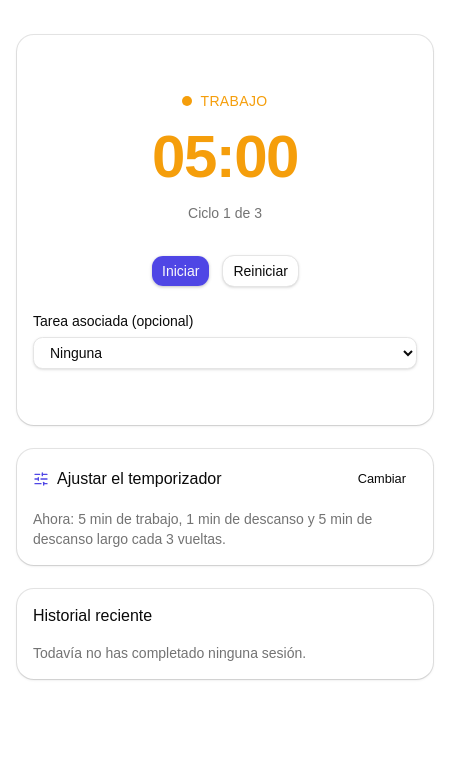
Test: PaginaPomodoro › se ajusta eligiendo una opción por edad y se guarda en la cuenta
The image size is (451, 763).
Click the button "Cambiar".
click(382, 479)  # box [347,465,417,493]
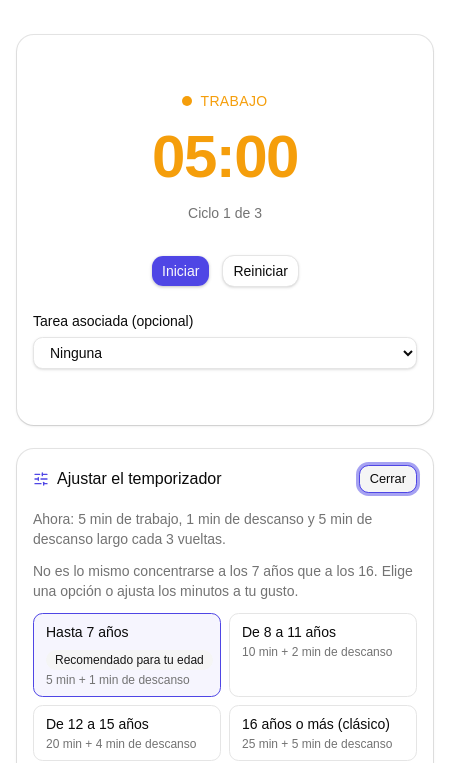
Expected: the button that starts with "Hasta 7 años" is shown, [33,613,221,697]
Click the button "De 8 a 11 años 10 min + 2 min de descanso".
click(323, 655)  # box [229,613,417,697]
(page scrolled)
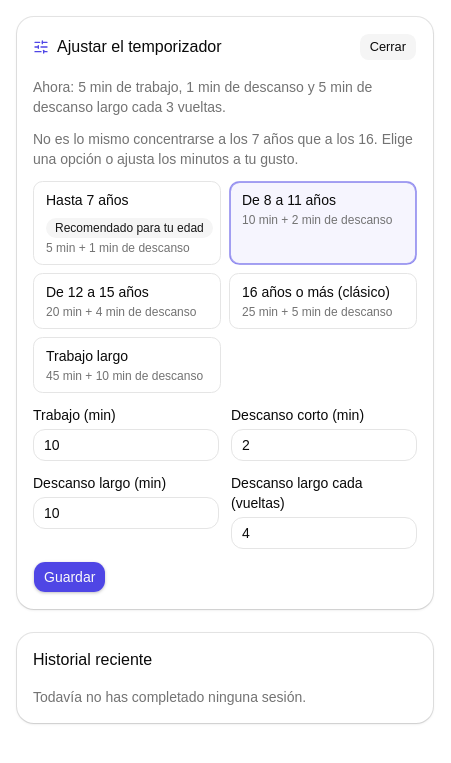
Click the button "Guardar".
click(70, 577)  # box [33,561,106,593]
(page scrolled)
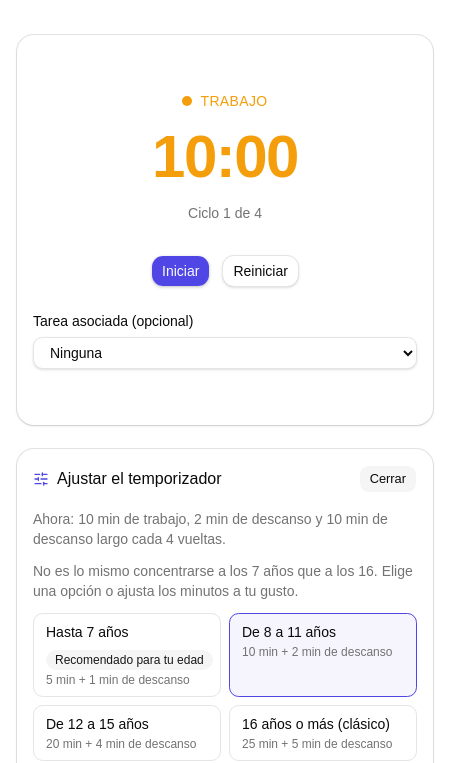
Expected: the text "10:00" is shown, [152,127,298,187]
